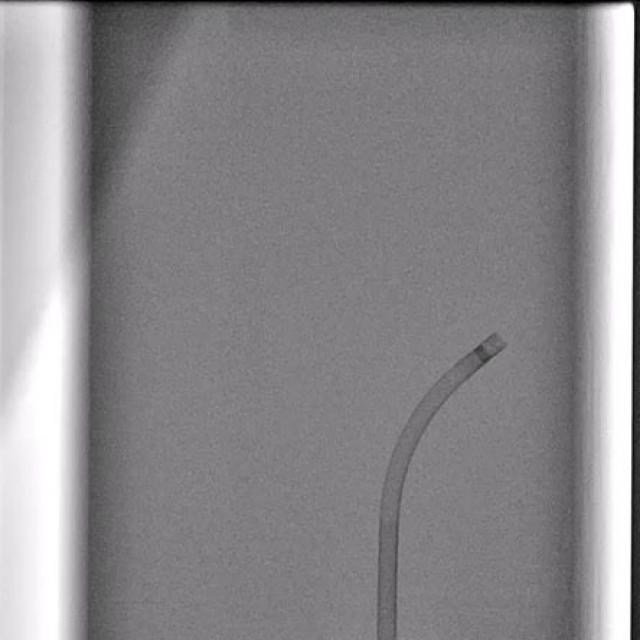bend: (380, 510, 398, 524)
entry: (377, 635, 396, 640)
marker: (472, 344, 492, 365)
tip: (493, 333, 506, 347)
